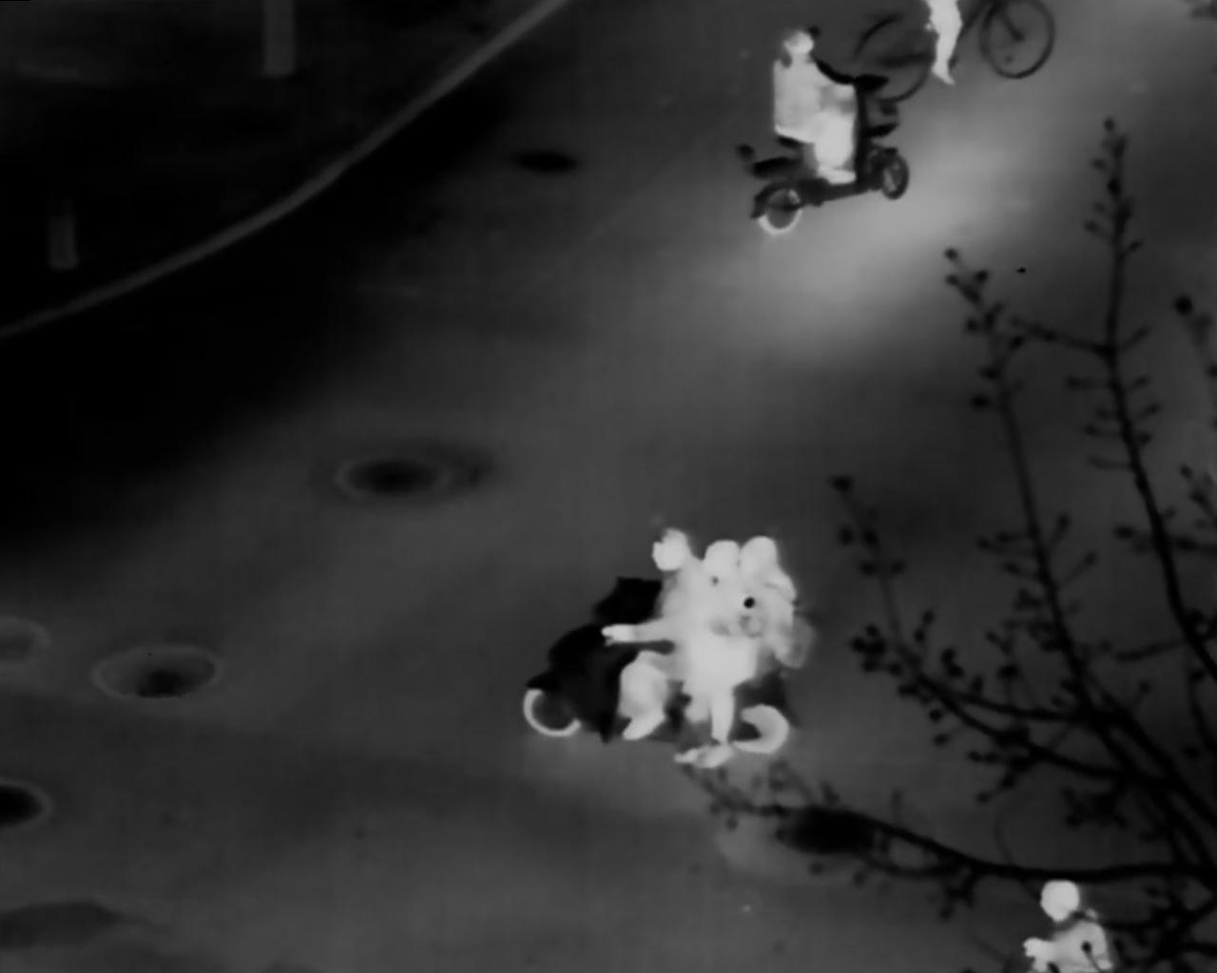person: (707, 533, 797, 767), (604, 524, 700, 740), (672, 533, 740, 770), (768, 27, 860, 187), (1001, 880, 1126, 971), (908, 2, 976, 94)
